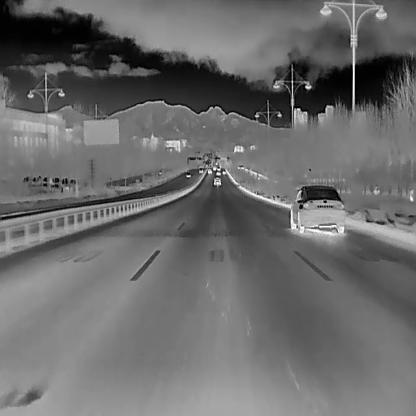car: (289, 184, 345, 233), (212, 176, 221, 186), (198, 167, 203, 173), (208, 168, 212, 174), (186, 171, 190, 176), (216, 165, 220, 170), (222, 169, 226, 174), (216, 170, 220, 174)
